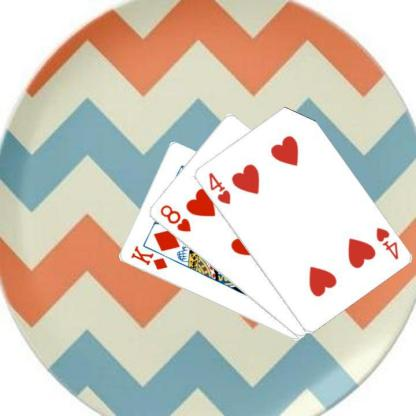4H: (372, 225, 400, 261), (205, 169, 232, 206)
8H: (156, 202, 192, 233)
KD: (128, 243, 168, 272)
